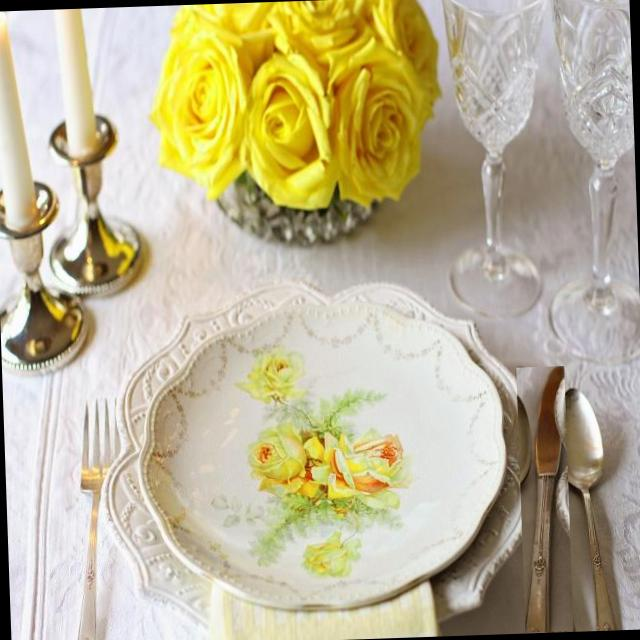Knife: (525, 366, 564, 632)
